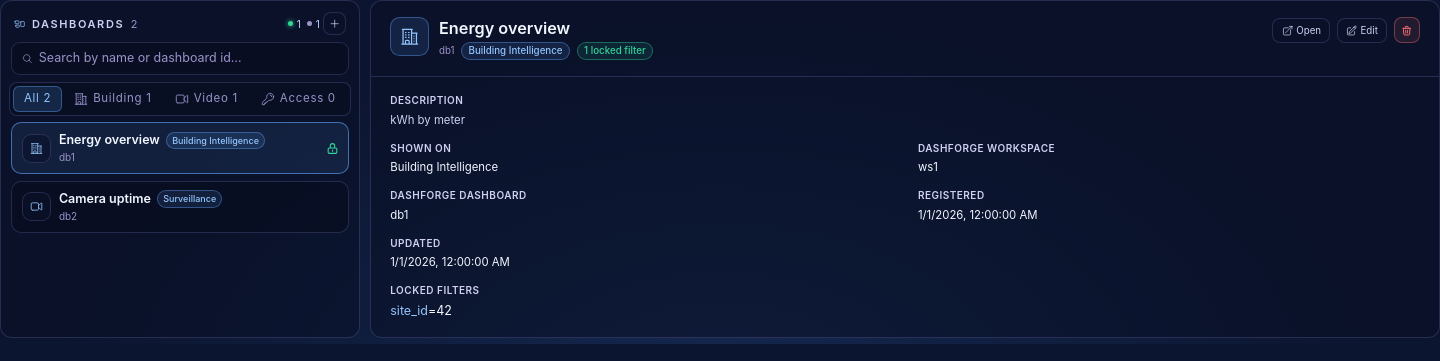
the list › narrows to one category when its filter is picked
The image size is (1440, 361).
Click the button "Video 1" at (206, 99), box left=164, top=86, right=249, bottom=112
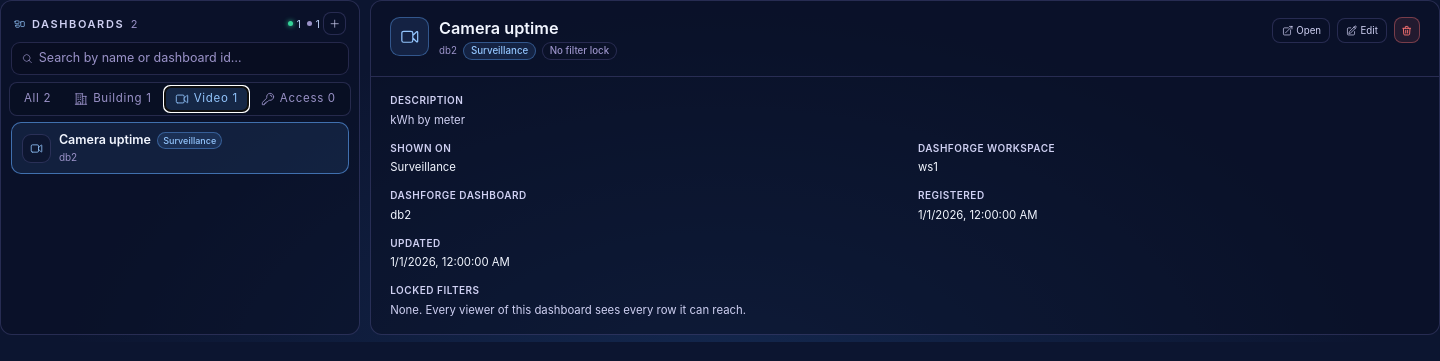
Expected: the button "Energy overview" is gone
